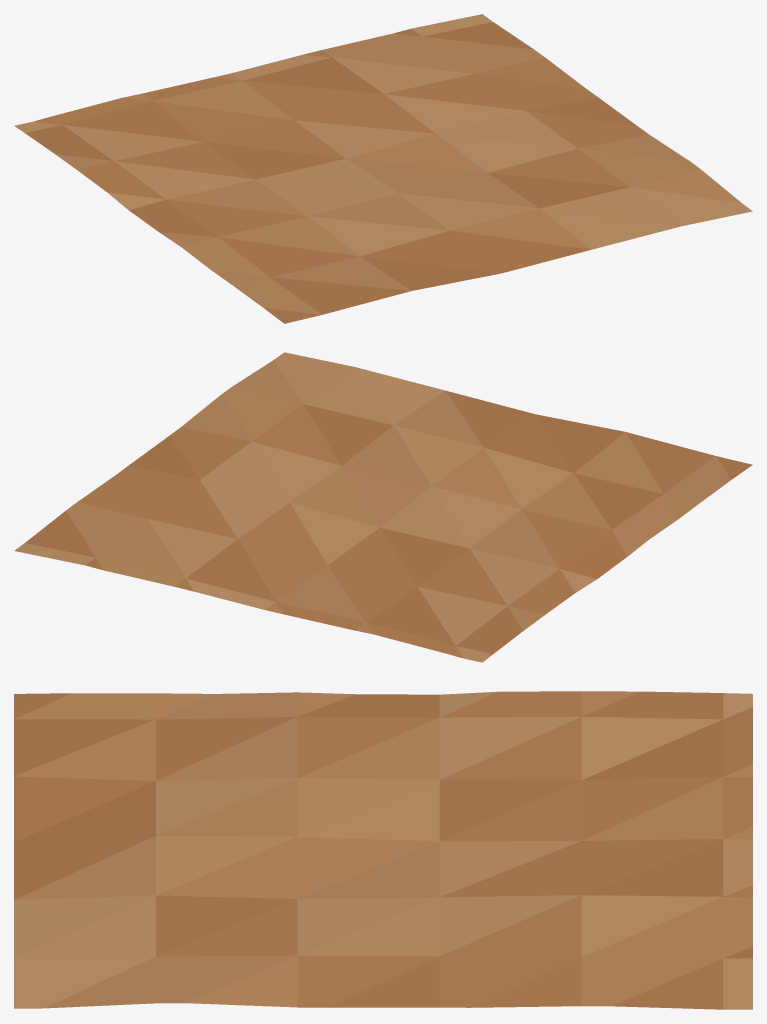
3 renders of one model, top to bottom at view 1: azimuth 30°, elevation 25°; view 2: azimuth 150°, elevation 25°; view 3: azimuth 270°, elevation 25°, orthographic. The views are drawn at different scales.
Visible parts, largest first — view 1: baked; view 2: baked; view 3: baked.
Boxes of the visible parts, x1,y1,x2,y2 form: baked: (14, 14, 752, 323); baked: (14, 352, 752, 662); baked: (14, 691, 752, 1009).
Bounding box in the file's own units: 62.5 × 0.6738 × 62.5.
